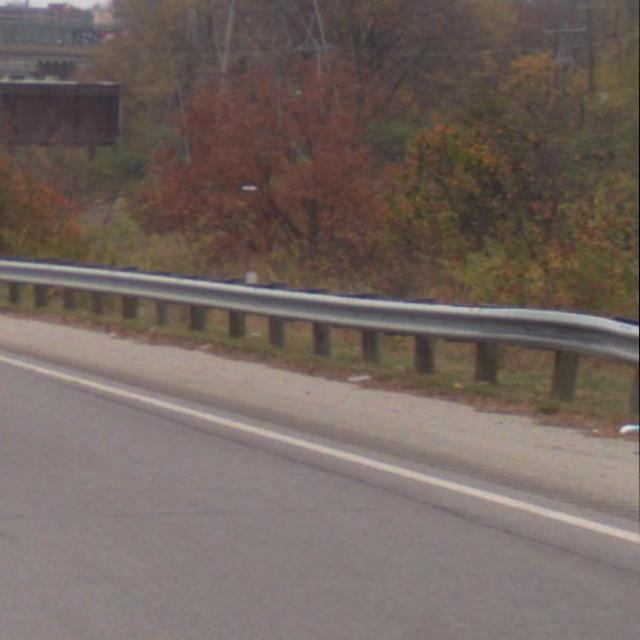Guard rail: (0, 253, 640, 418)
